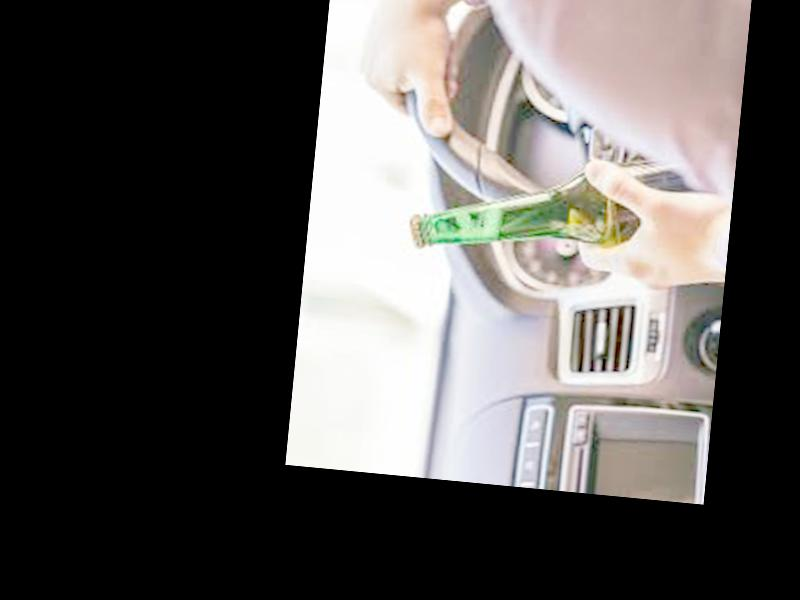Beer: (405, 133, 722, 277)
